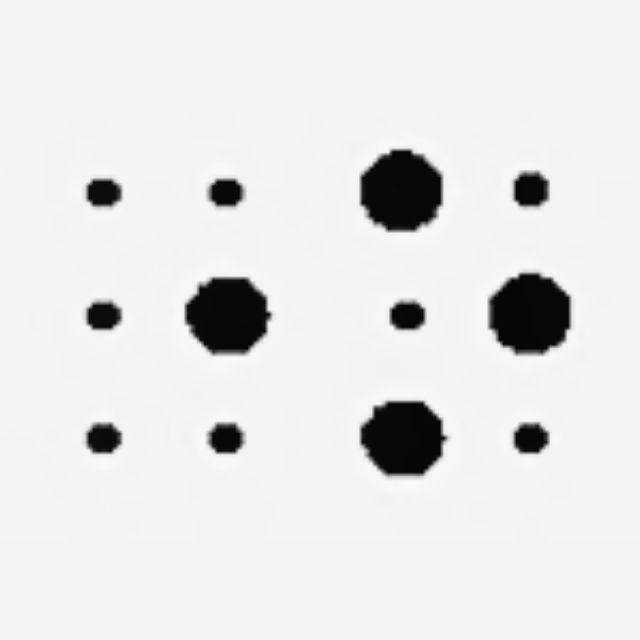dot_5: (59, 154, 269, 475)
opo: (362, 148, 570, 473)
